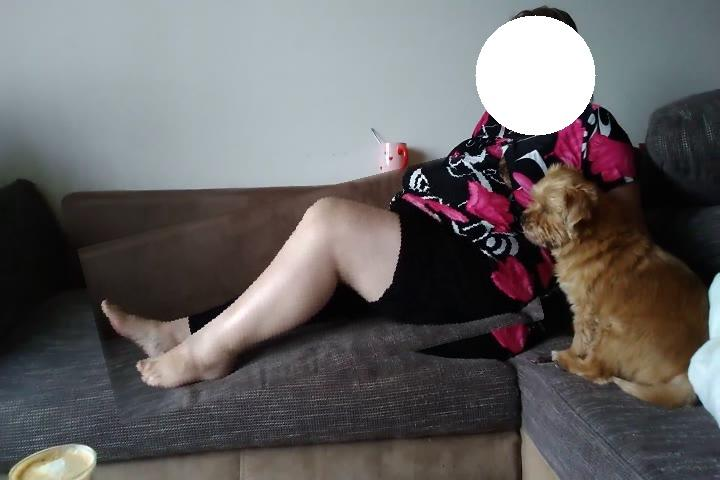lower_body: (86, 169, 537, 400)
